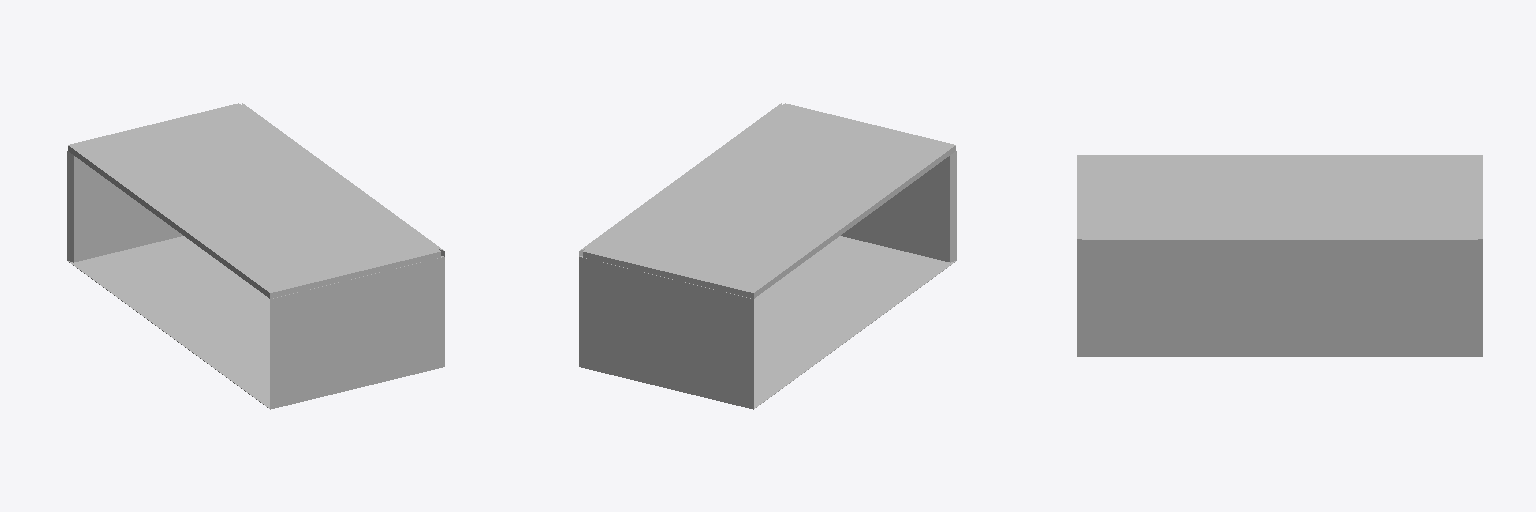
The model's file is InteriorBuilding.obj.
3 renders of one model, left to right at view 1: azimuth 30°, elevation 25°; view 2: azimuth 150°, elevation 25°; view 3: azimuth 270°, elevation 25°, orthographic.
Parts seen in each view (by area): view 1: InteriorBuilding; view 2: InteriorBuilding; view 3: InteriorBuilding.
Boxes of the visible parts, x1=… form: InteriorBuilding: x1=67, y1=103, x2=444, y2=409; InteriorBuilding: x1=579, y1=103, x2=956, y2=409; InteriorBuilding: x1=1077, y1=155, x2=1482, y2=356.
Bounding box in the file's own units: 33.3 × 21.2 × 67.11.